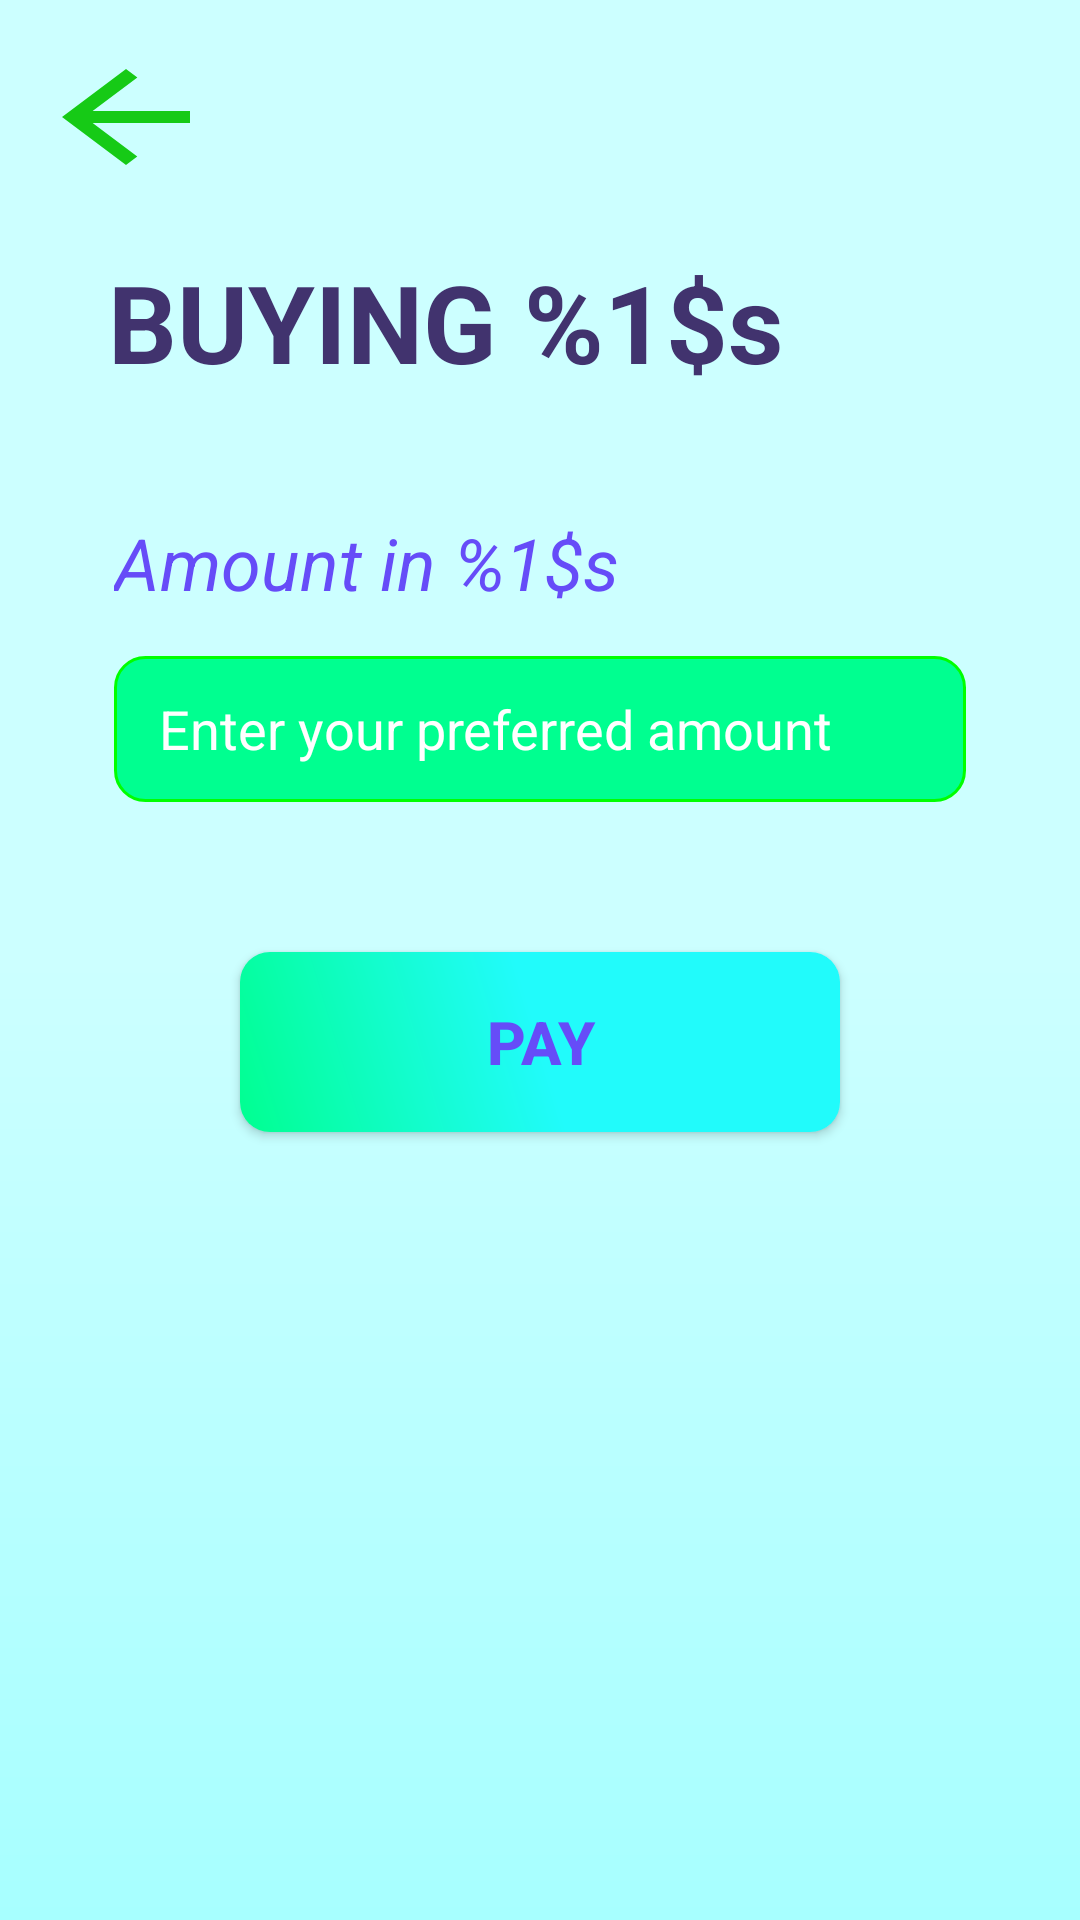

Locate icon controls on the screen. Image size 1080w x 1920h, boxes as [x1,y1,x2,y2].
Return: [62,69,190,165]
